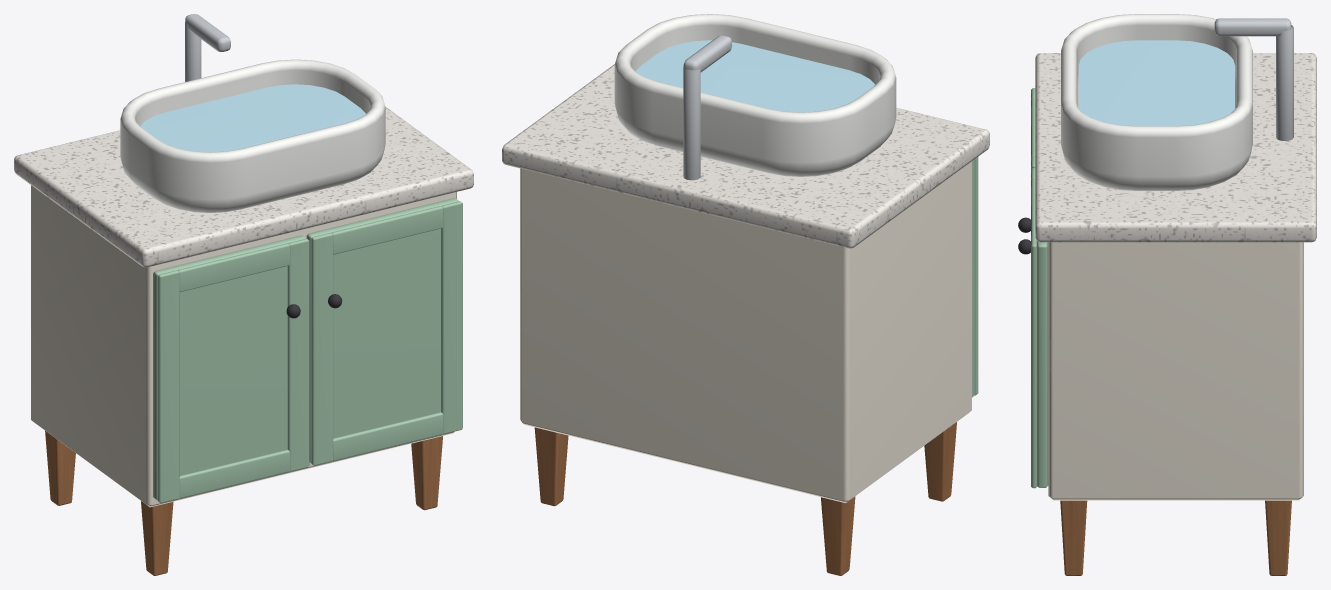
The model's file is prop_vanity.glb.
3 renders of one model, left to right at view 1: azimuth 30°, elevation 25°; view 2: azimuth 150°, elevation 25°; view 3: azimuth 270°, elevation 25°, orthographic. The views are drawn at different scales.
Visible parts, largest first — view 1: prop_vanity; view 2: prop_vanity; view 3: prop_vanity.
Part boxes in pixels (x1,y1,x2,y2): prop_vanity: (14, 14, 473, 575); prop_vanity: (502, 14, 989, 575); prop_vanity: (1018, 14, 1316, 575).
Size of the model in its own units: 0.8 by 1.04 by 0.5838.
Materials: 8 (2 with a texture image).
